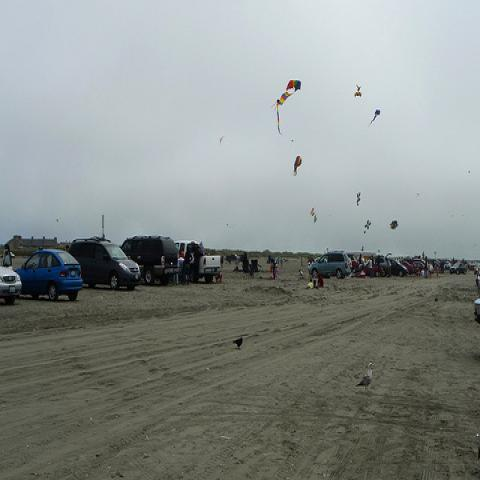car: (68, 239, 141, 292), (14, 249, 83, 302), (120, 234, 179, 286), (308, 250, 353, 278), (0, 266, 22, 302), (374, 252, 392, 277), (389, 260, 408, 278), (414, 258, 434, 274), (450, 262, 467, 276), (403, 261, 414, 275)
truck: (176, 239, 222, 282)
